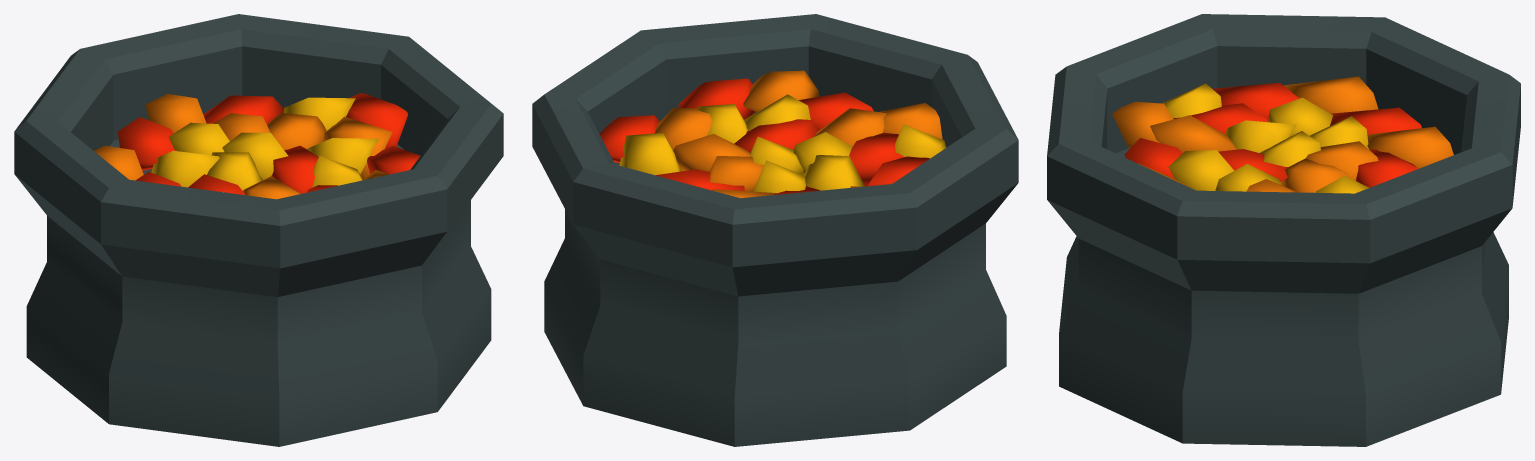
The model's file is forge.FBX.
3 renders of one model, left to right at view 1: azimuth 30°, elevation 25°; view 2: azimuth 150°, elevation 25°; view 3: azimuth 270°, elevation 25°, orthographic. The views are drawn at different scales.
Parts seen in each view (by area): view 1: Cylinder001, GeoSphere007, GeoSphere015, GeoSphere010, GeoSphere008, GeoSphere002, GeoSphere014, GeoSphere001, GeoSphere009, GeoSphere019, GeoSphere012, GeoSphere011 (+8 smaller); view 2: Cylinder001, GeoSphere024, GeoSphere018, GeoSphere010, GeoSphere017, GeoSphere002, GeoSphere013, GeoSphere016, GeoSphere003, GeoSphere001, GeoSphere020, GeoSphere023 (+10 smaller); view 3: Cylinder001, GeoSphere008, GeoSphere005, GeoSphere003, GeoSphere021, GeoSphere020, GeoSphere004, GeoSphere011, GeoSphere002, GeoSphere007, GeoSphere010, GeoSphere023 (+9 smaller).
Boxes of the visible parts, box(x1,y1,x2,y2) form: Cylinder001: box(14, 14, 503, 446); GeoSphere007: box(118, 117, 177, 170); GeoSphere015: box(346, 93, 407, 148); GeoSphere010: box(267, 113, 326, 149); GeoSphere008: box(145, 93, 206, 133); GeoSphere002: box(151, 150, 219, 187); GeoSphere014: box(222, 132, 288, 179); GeoSphere001: box(271, 145, 318, 193); GeoSphere009: box(168, 122, 229, 155); GeoSphere019: box(307, 138, 378, 174); GeoSphere012: box(203, 95, 283, 123); GeoSphere011: box(207, 152, 262, 190); Cylinder001: box(532, 14, 1018, 446); GeoSphere024: box(619, 133, 681, 175); GeoSphere018: box(743, 70, 819, 111); GeoSphere010: box(673, 134, 750, 171); GeoSphere017: box(678, 78, 754, 119); GeoSphere002: box(804, 155, 864, 190); GeoSphere013: box(849, 132, 904, 186); GeoSphere016: box(654, 107, 712, 149); GeoSphere003: box(813, 108, 886, 146); GeoSphere001: box(734, 119, 820, 152); GeoSphere020: box(879, 103, 942, 139); GeoSphere023: box(709, 156, 763, 191); Cylinder001: box(1047, 14, 1520, 446); GeoSphere008: box(1367, 126, 1453, 169); GeoSphere005: box(1284, 76, 1378, 113); GeoSphere003: box(1150, 115, 1236, 152); GeoSphere021: box(1168, 150, 1234, 190); GeoSphere020: box(1112, 101, 1173, 148); GeoSphere004: box(1212, 82, 1298, 120); GeoSphere011: box(1225, 120, 1296, 152); GeoSphere002: box(1268, 97, 1333, 136); GeoSphere007: box(1330, 107, 1421, 134); GeoSphere010: box(1281, 158, 1348, 192); GeoSphere023: box(1306, 141, 1378, 180).
Bounding box in the file's own units: 109 × 61.31 × 109.
